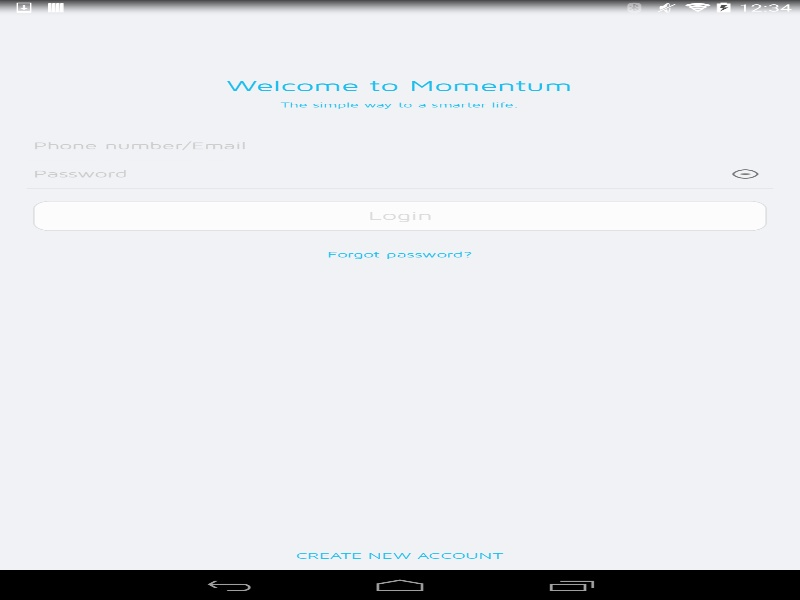Button: (33, 200, 766, 230)
Input: (26, 132, 773, 160), (26, 160, 773, 188)
